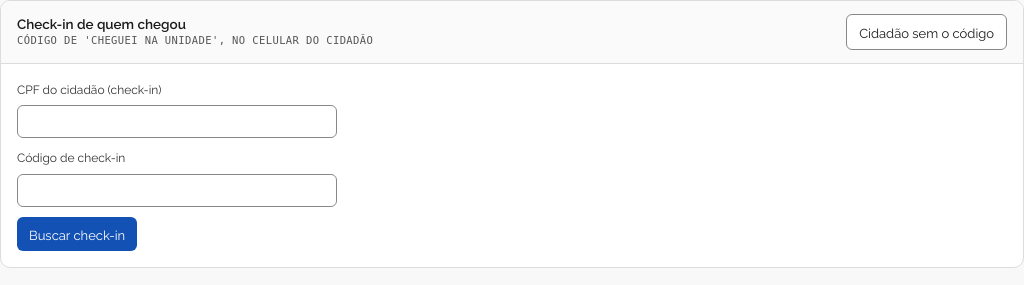
Test case: CheckIn › cartão mostra encaminhamento quando o kind do agendamento é referral
The image size is (1024, 285).
In the field labelled "CPF do cidadão (check-in)": (177, 122) [17, 105, 337, 138], type "52998224725"
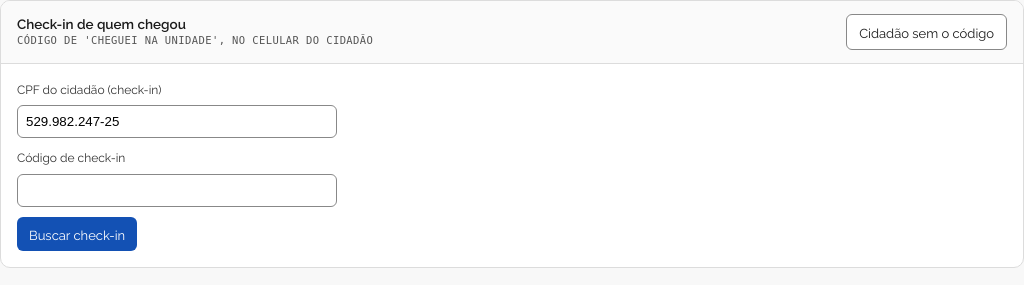
In the field labelled "Código de check-in": (177, 190) [17, 174, 337, 207], type "123456"
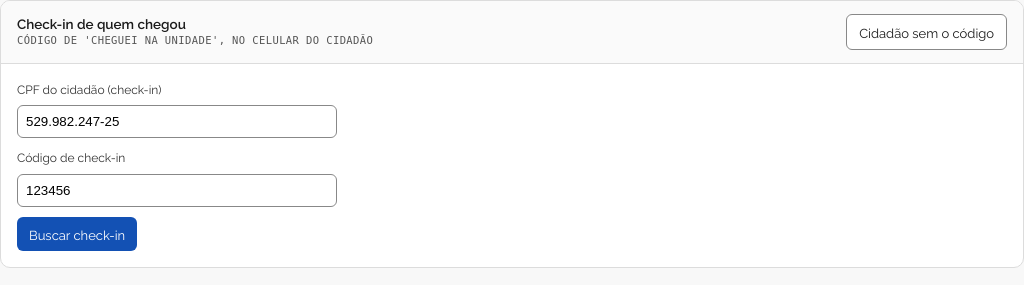
Click the button "Buscar check-in": (77, 234) [17, 217, 137, 251]
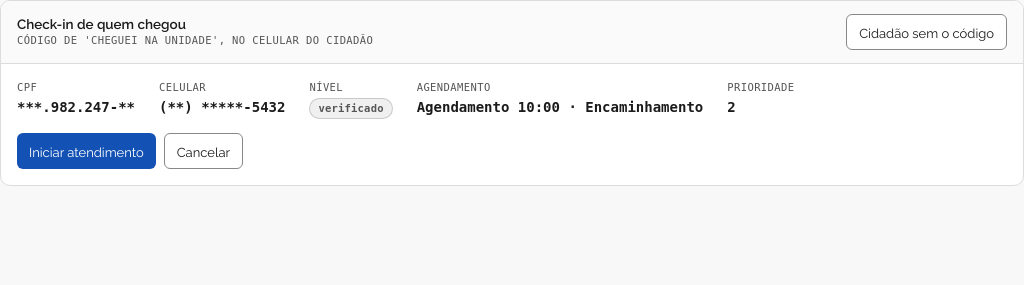
Result: the text "Agendamento 10:00 · Encaminhamento" is shown at [417, 97, 703, 118]
